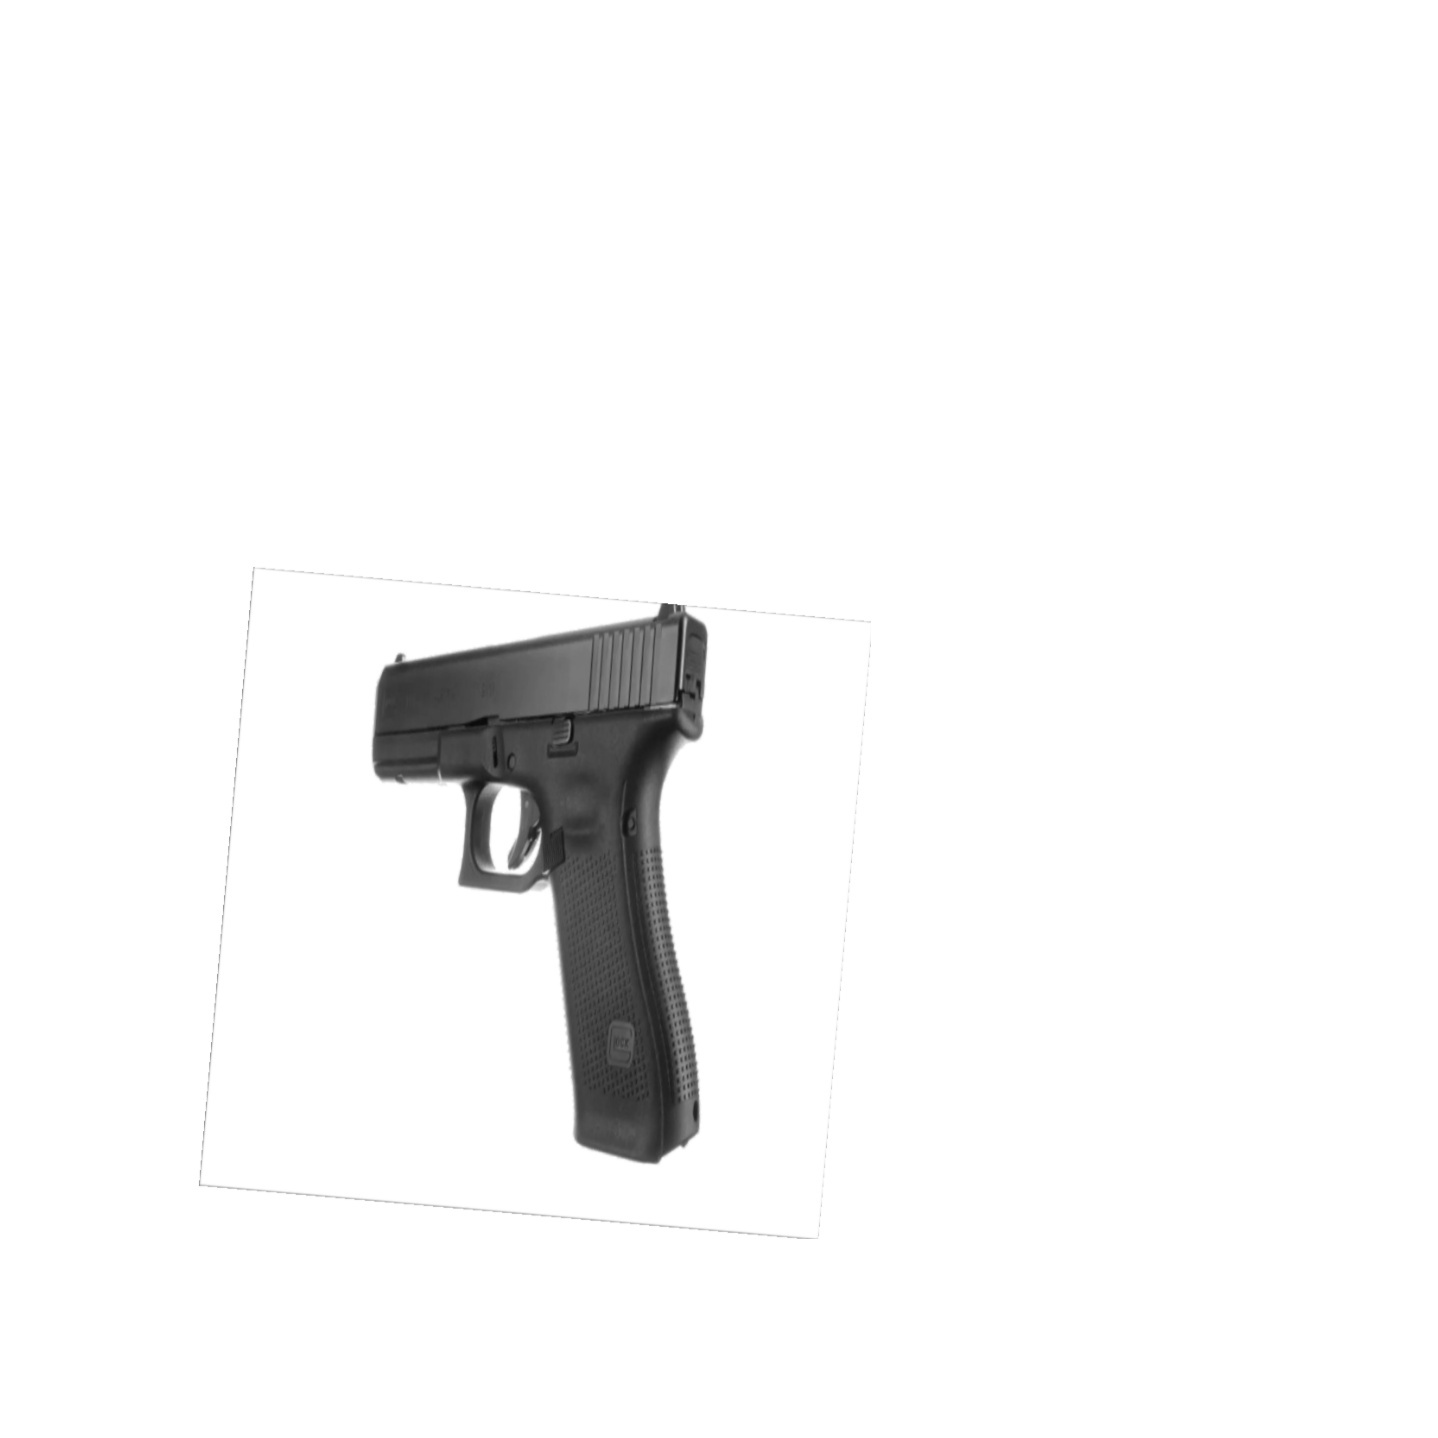gun: (363, 597, 762, 1179)
